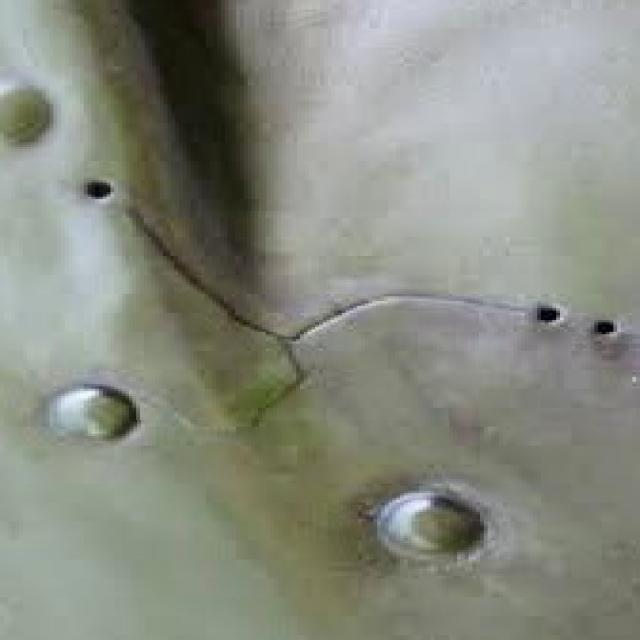crack: (131, 212, 535, 421)
